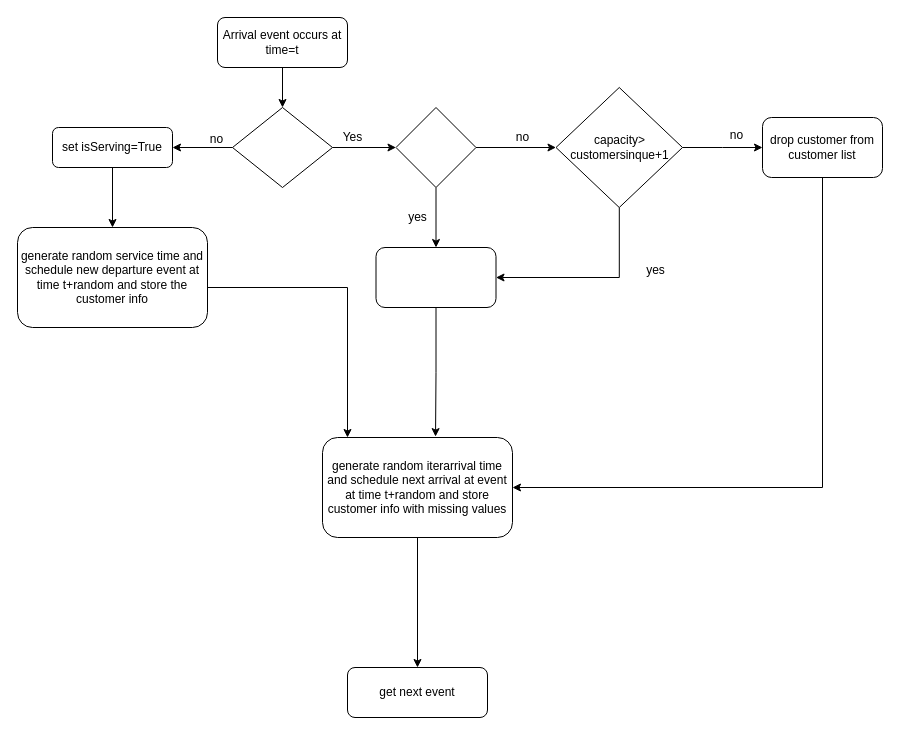
Image size: 900x735. Some labels were removed from this diagram. The shapes that lost their labels are listed below. From the top down, each one's box as (x1, y1, x2, y2) in pixels, then its label:
(232, 106, 332, 188): isServing=True
(395, 106, 476, 188): capacity=0
(375, 246, 496, 308): increase customersinQue by 1
